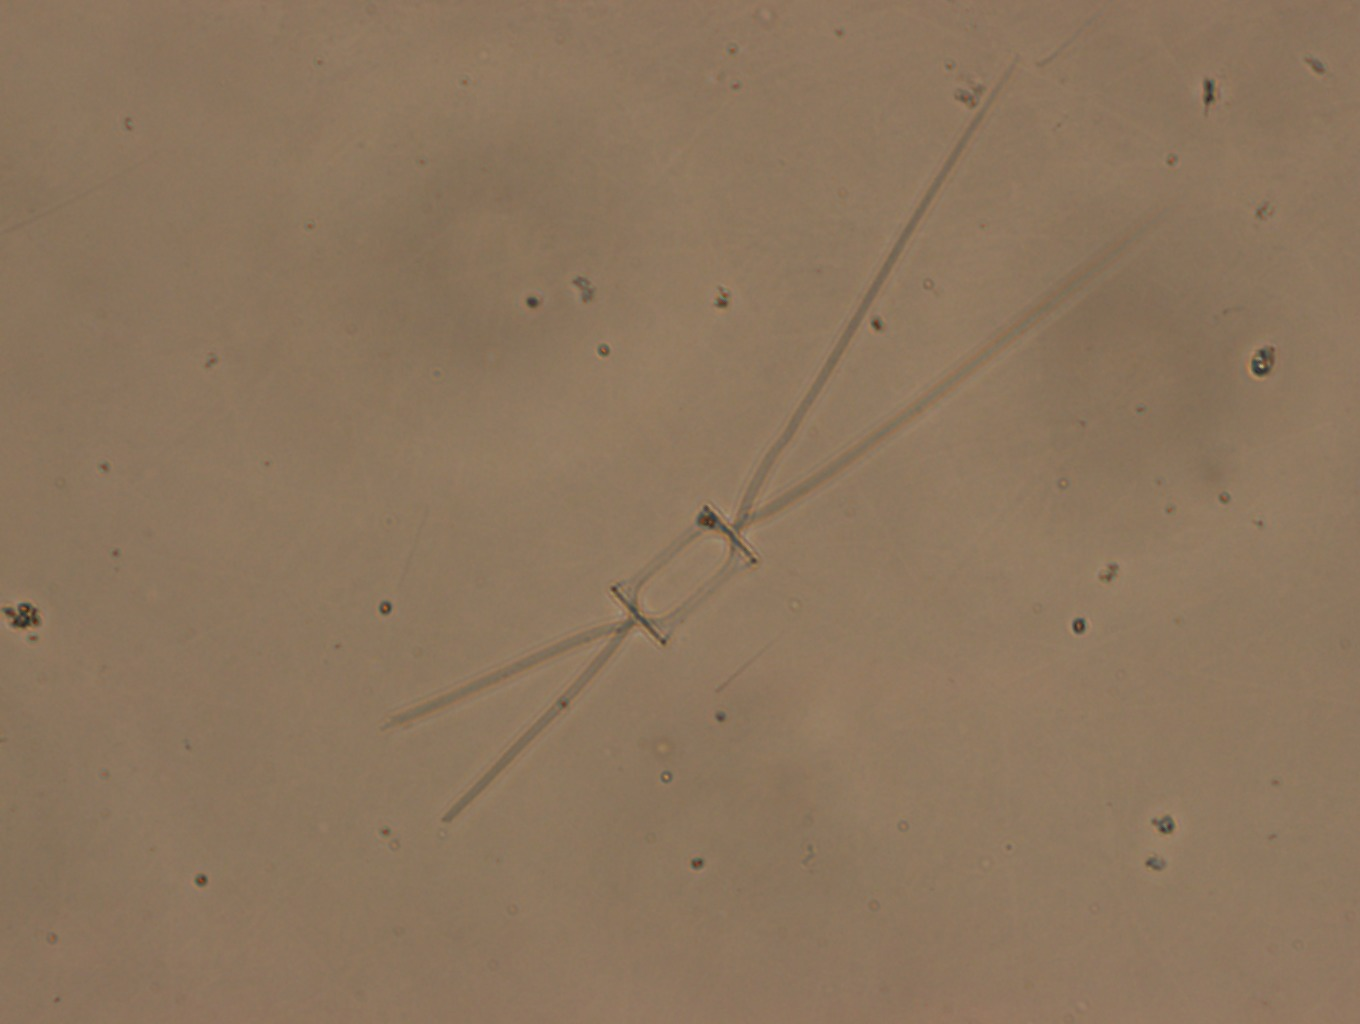chaetoceros: (389, 53, 1164, 820)
